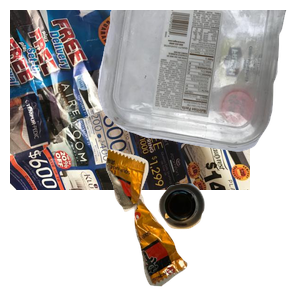glass: (156, 181, 300, 300)
paper: (10, 10, 250, 190)
plastic: (95, 10, 300, 154)
trash: (103, 147, 300, 300)
